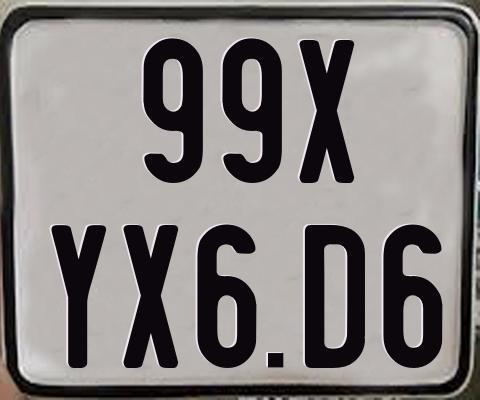6: (195, 224, 260, 368), (383, 221, 445, 369)
9: (143, 35, 209, 183), (219, 37, 284, 186)
D: (305, 224, 371, 369)
X: (298, 38, 354, 183), (123, 225, 178, 369)
Y: (50, 224, 107, 367)
